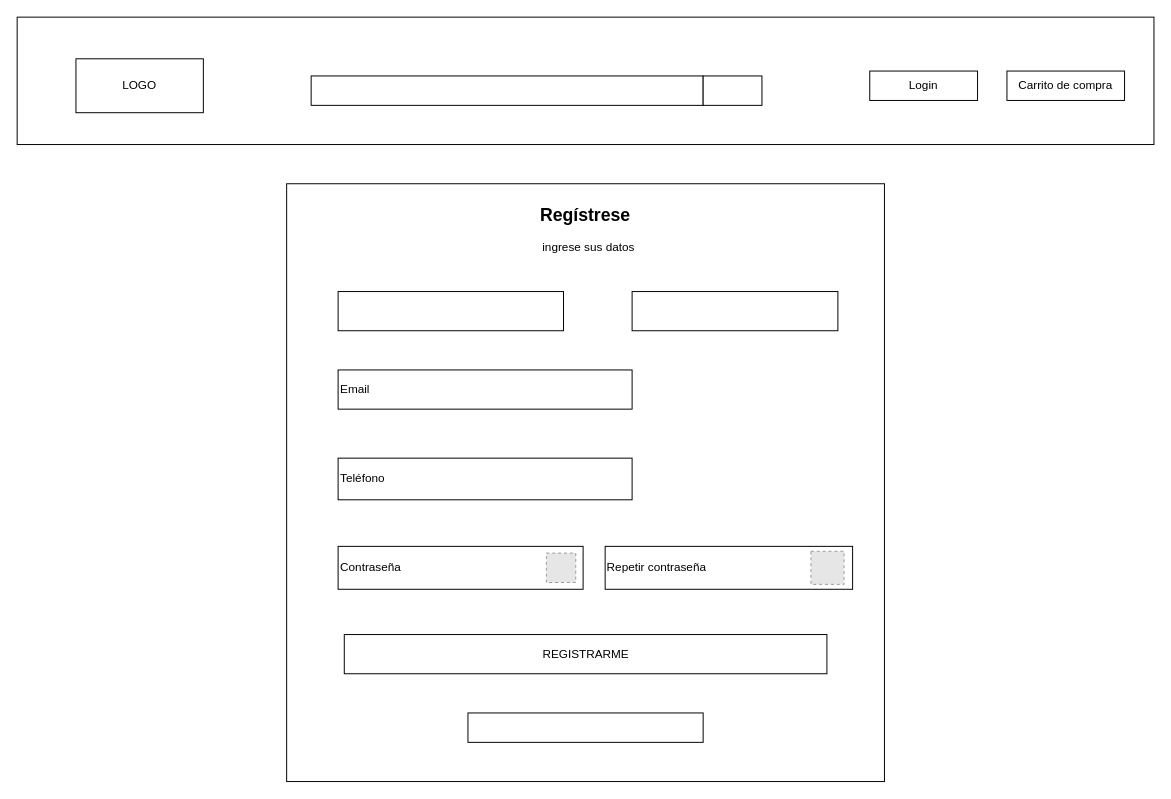
This 1171x799 diagram has some shape labels left out. Grey dashed boxes stand in for pictures. The centre of each missing label's shape, as x and y in pixels:
Apellido: point (734, 311)
Buscar: point (732, 90)
Nombre: point (450, 311)
¿Ya tienes una cuenta? Inicia sesión acá: point (585, 727)
